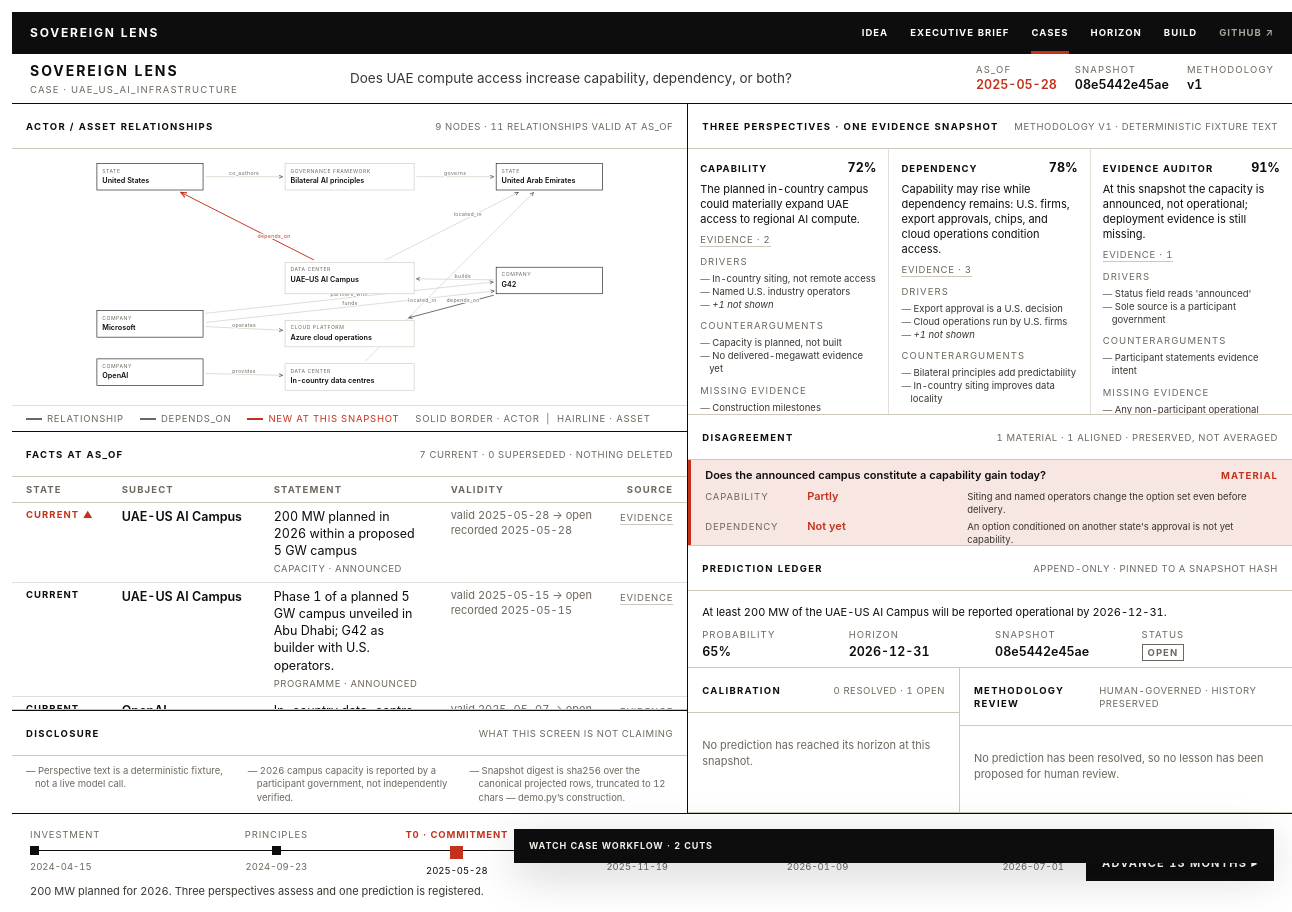
Scenario: advance thirteen months › moves to T1, supersedes the old fact and keeps it visible
Click the button "Advance 13 months ▸" at point(1180, 863), box [1086,846,1274,881]
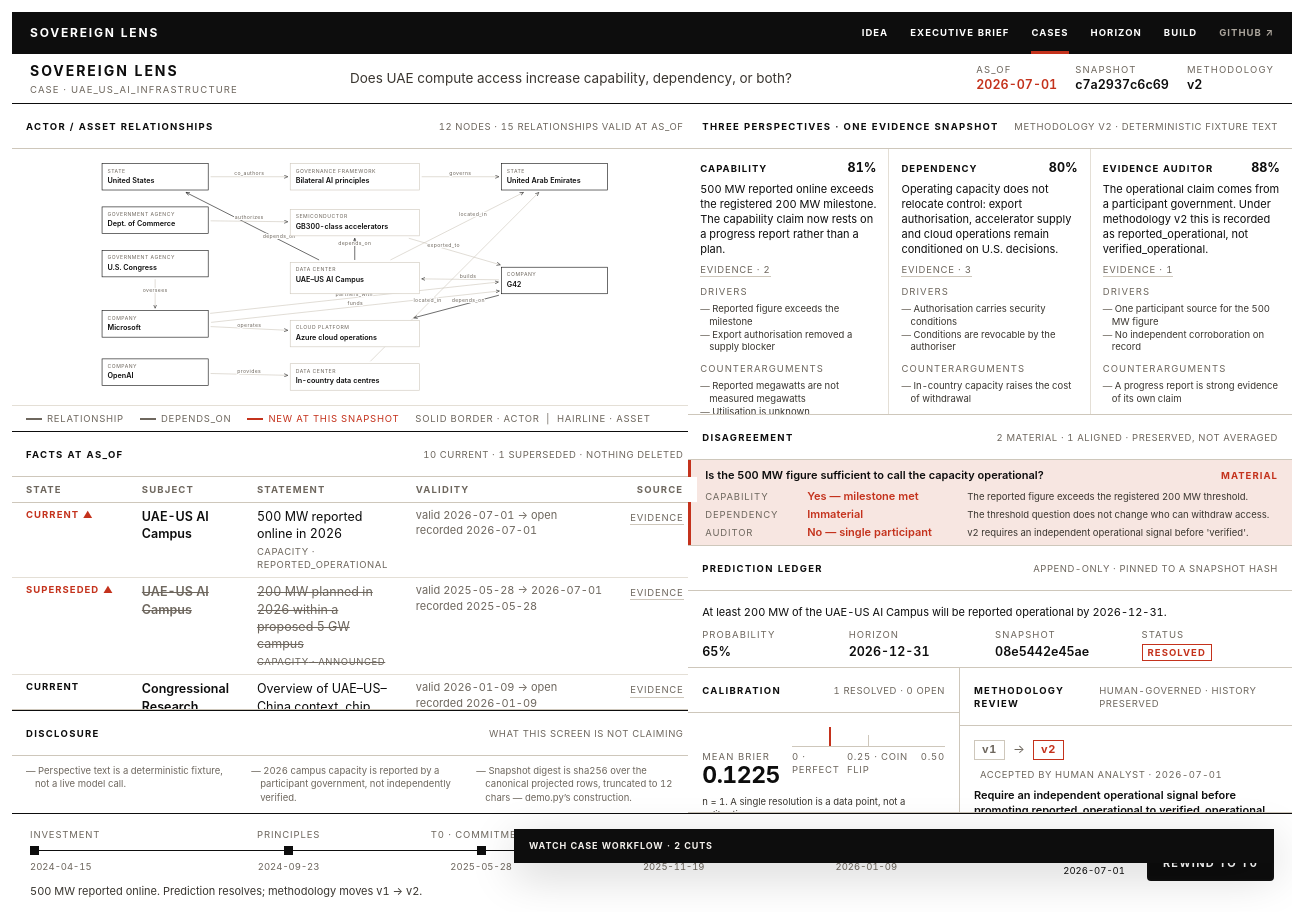
Check: the text with test id "as-of" reads "2026-07-01", box [976,77,1057,92]
Check: the row with test id "fact-campus_capacity_reported_operational" shows "500 MW reported online in 2026", box [257,509,362,541]
Check: the row with test id "fact-campus_capacity_planned" shows "Superseded", box [26,584,99,595]
